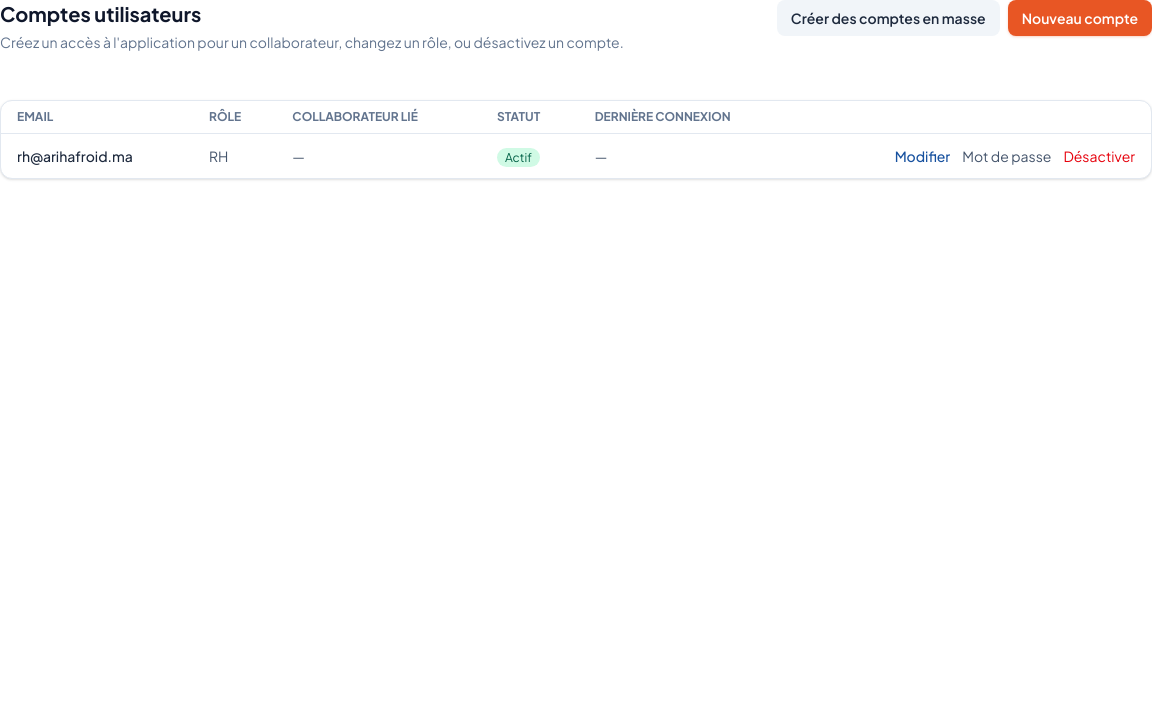
it: UsersPage › pre-selects only collaborateurs not covered by a responsable congé, and creates the selected accounts
Click the button "Créer des comptes en masse" at (888, 18), box top-left (777, 0), bottom-right (1000, 36)
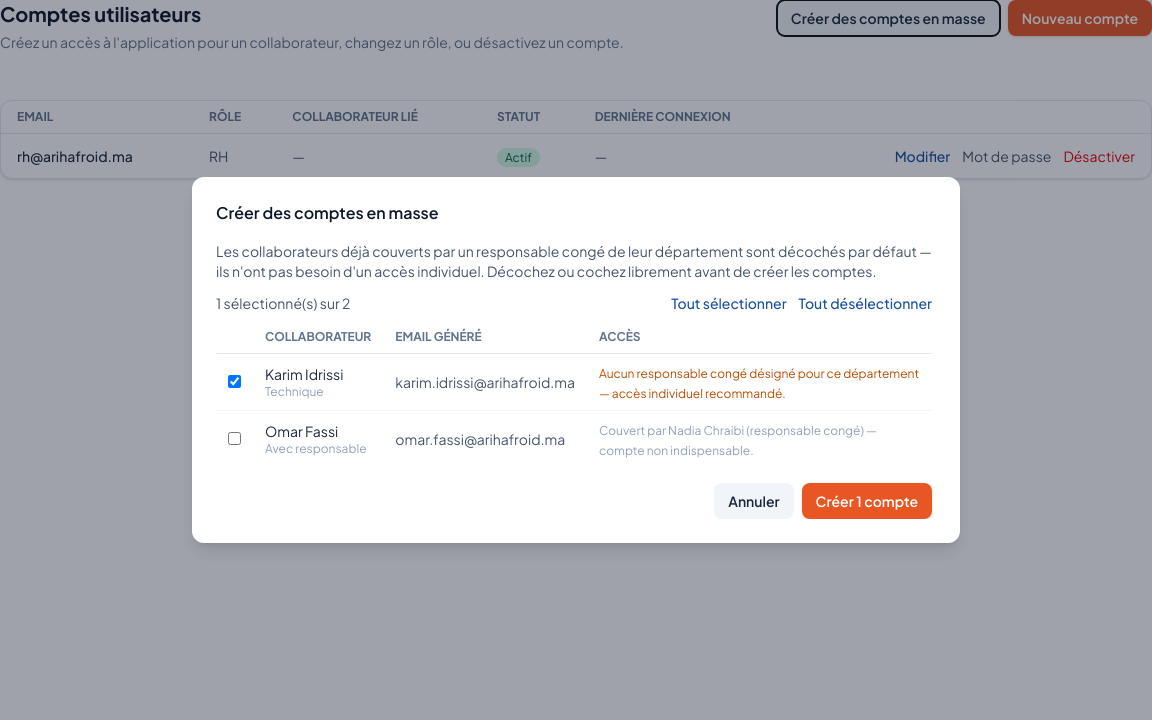
Result: the text "Karim Idrissi" is shown at top-left (265, 365), bottom-right (343, 383)
Result: the checkbox next to "Karim Idrissi" is checked at top-left (228, 375), bottom-right (241, 388)
Result: the checkbox next to "Omar Fassi" is not checked at top-left (228, 432), bottom-right (241, 445)
Click the button "Créer 1 compte" at (867, 501), box top-left (802, 483), bottom-right (932, 519)
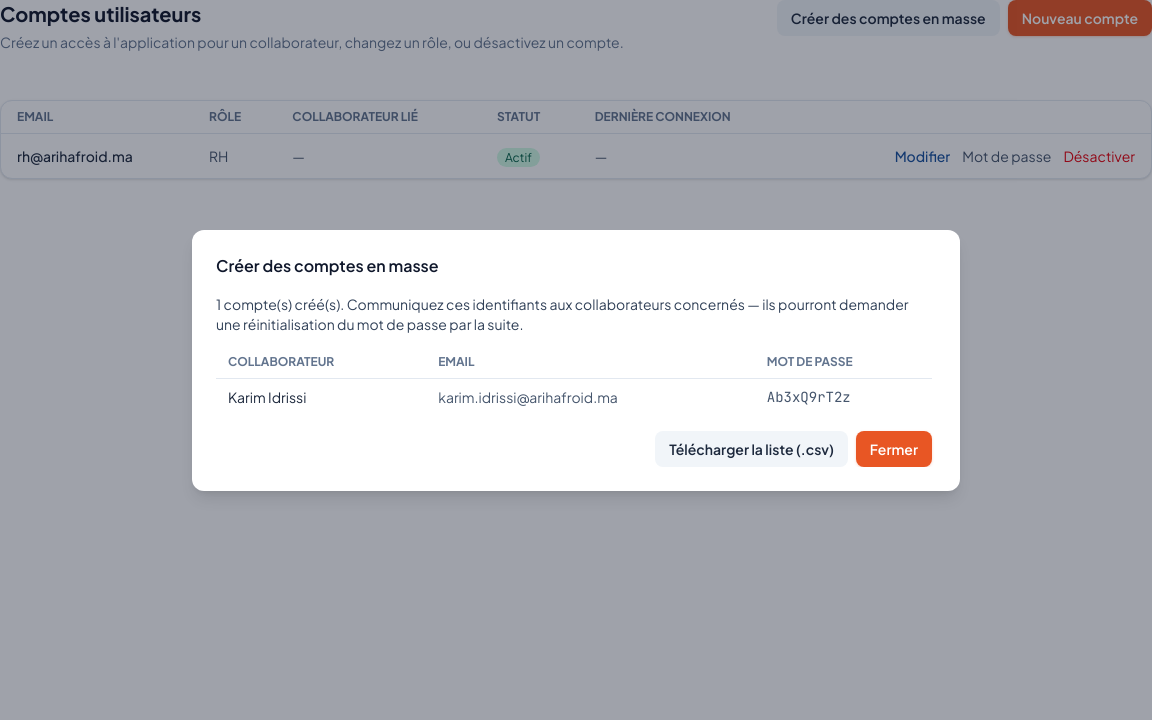
Result: the text "karim.idrissi@arihafroid.ma" is shown at top-left (426, 378), bottom-right (755, 414)
Result: the text "1 compte(s) créé" is shown at top-left (216, 294), bottom-right (932, 334)
Result: the text "Ab3xQ9rT2z" is shown at top-left (755, 378), bottom-right (932, 414)
